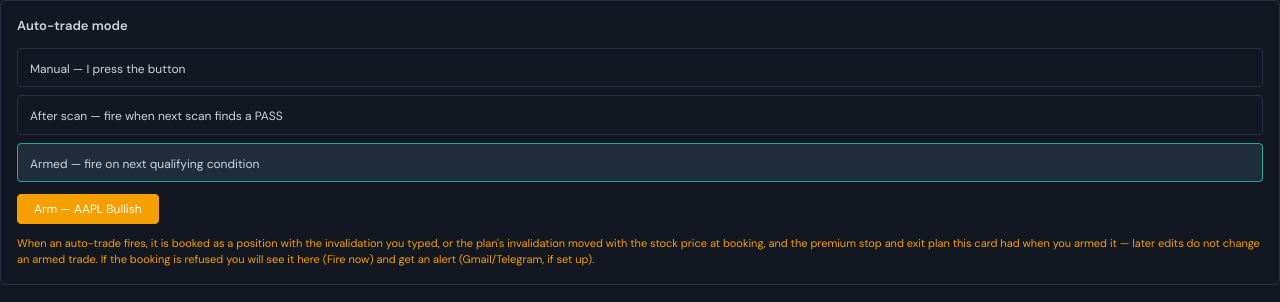
Test: the ARMED state shows what the BACKEND has armed › re-reads the backend after arming instead of trusting the card
This screenshot has width=1280, height=302.
Click the button "Arm — AAPL Bullish".
click(88, 209)  # box x1=17 y1=194 x2=159 y2=224
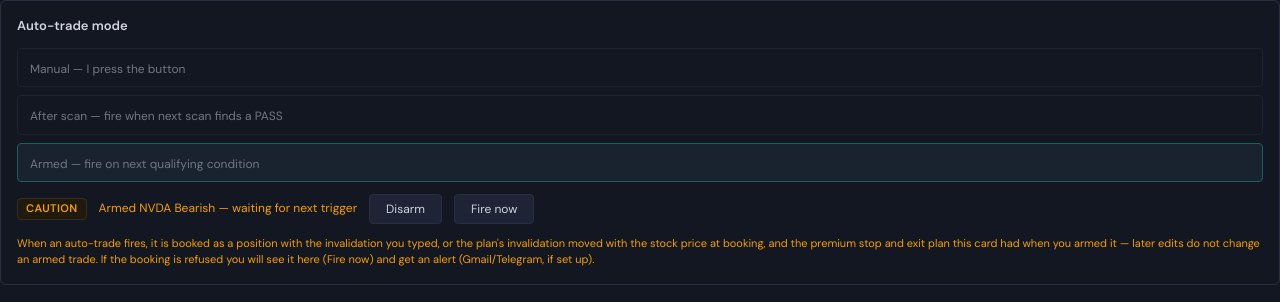
Expected: the text "Armed NVDA Bearish — waiting for next trigger" is shown, x1=99 y1=200 x2=357 y2=218
